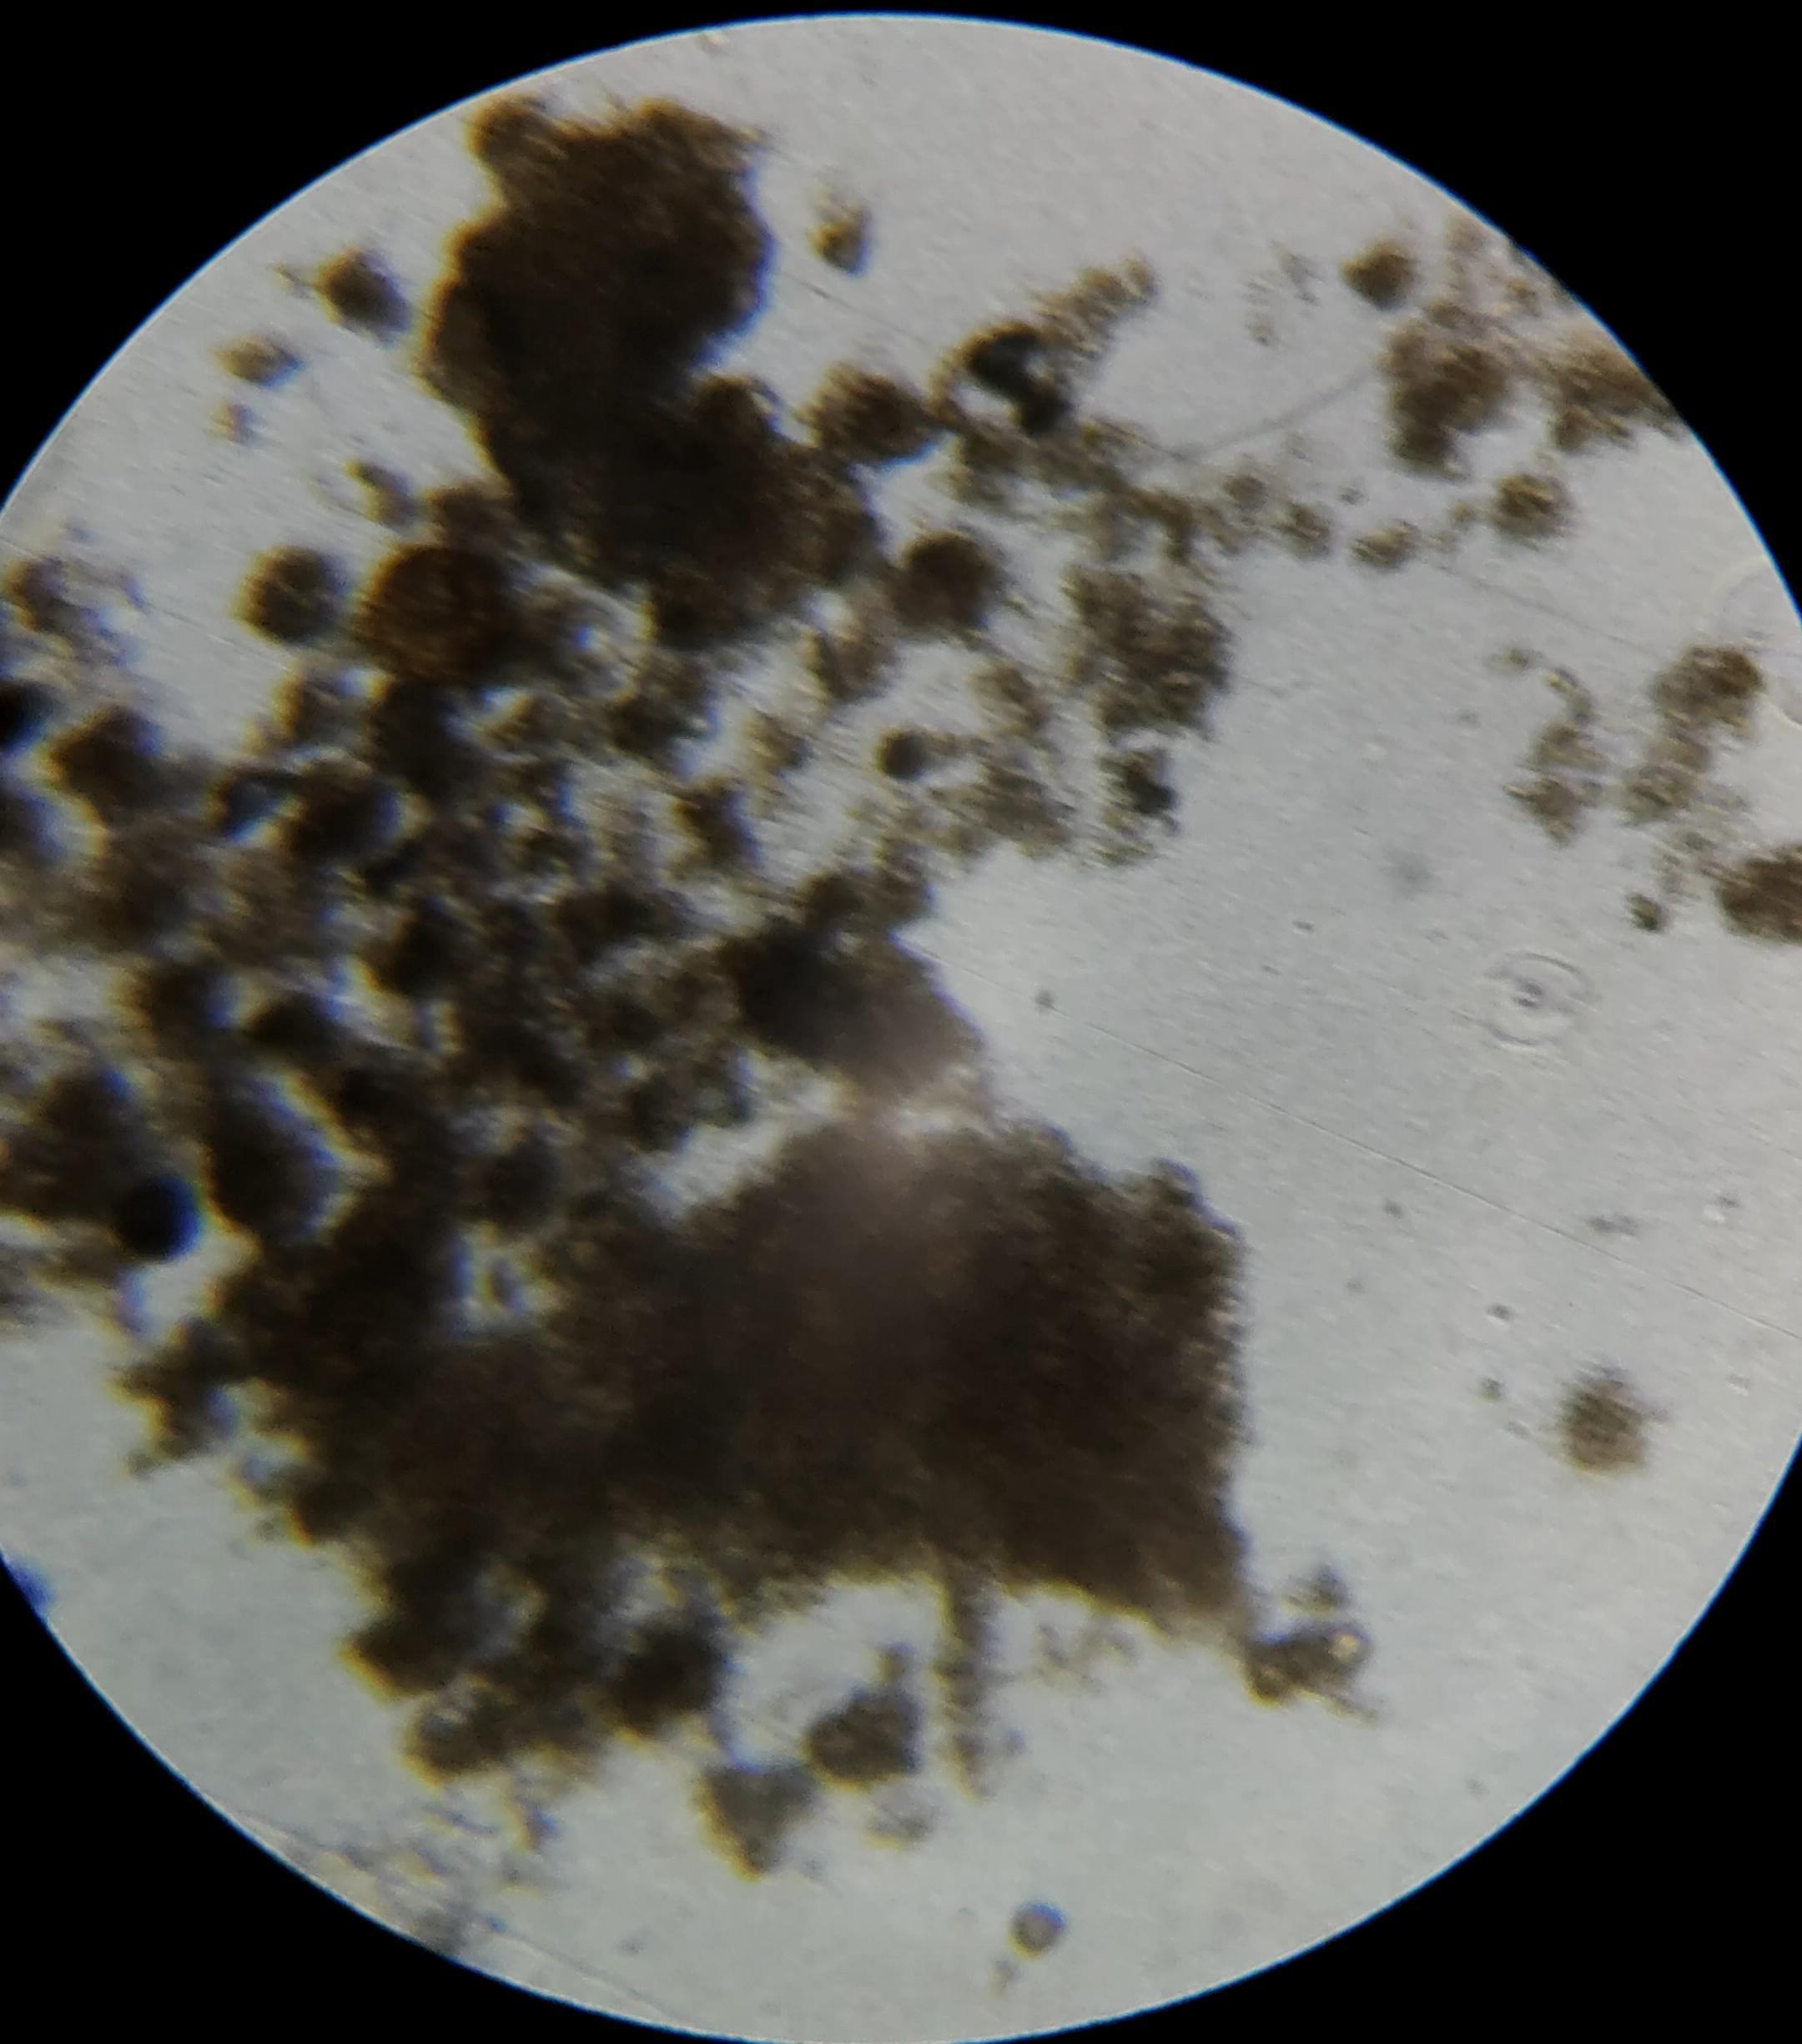Arcella: (381, 551, 511, 685)
